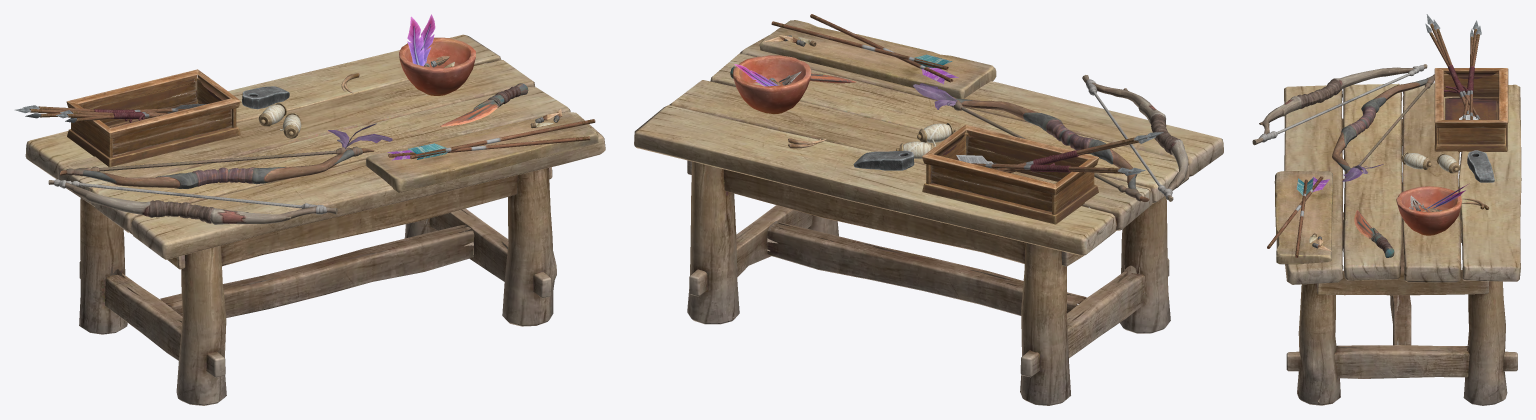
3 renders of one model, left to right at view 1: azimuth 30°, elevation 25°; view 2: azimuth 150°, elevation 25°; view 3: azimuth 270°, elevation 25°, orthographic. The views are drawn at different scales.
Parts seen in each view (by area): view 1: SM_FletchingTable_01_LOD0; view 2: SM_FletchingTable_01_LOD0; view 3: SM_FletchingTable_01_LOD0.
Part boxes in pixels (left/top/right/bottom): SM_FletchingTable_01_LOD0: left=14, top=14, right=605, bottom=405; SM_FletchingTable_01_LOD0: left=634, top=14, right=1223, bottom=405; SM_FletchingTable_01_LOD0: left=1252, top=14, right=1521, bottom=405.
Bounding box in the file's own units: 2.41 × 1.22 × 1.38.
Materials: 19 (19 with a texture image).
